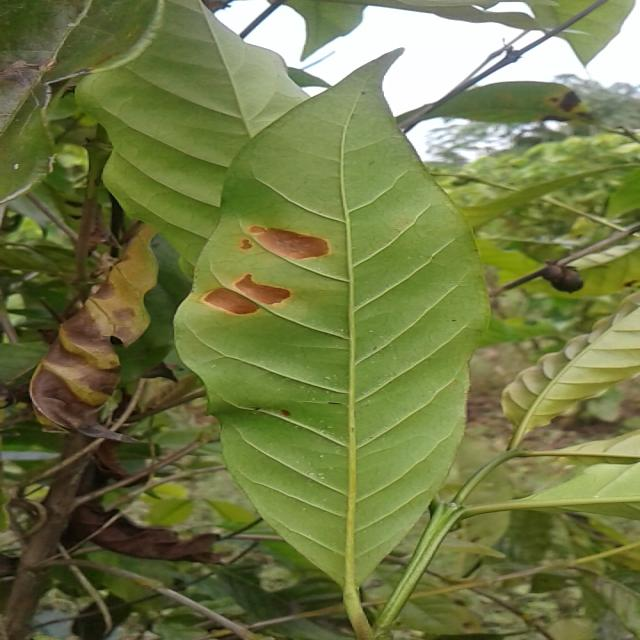Plaga-AranaRoja: (173, 50, 499, 639)
